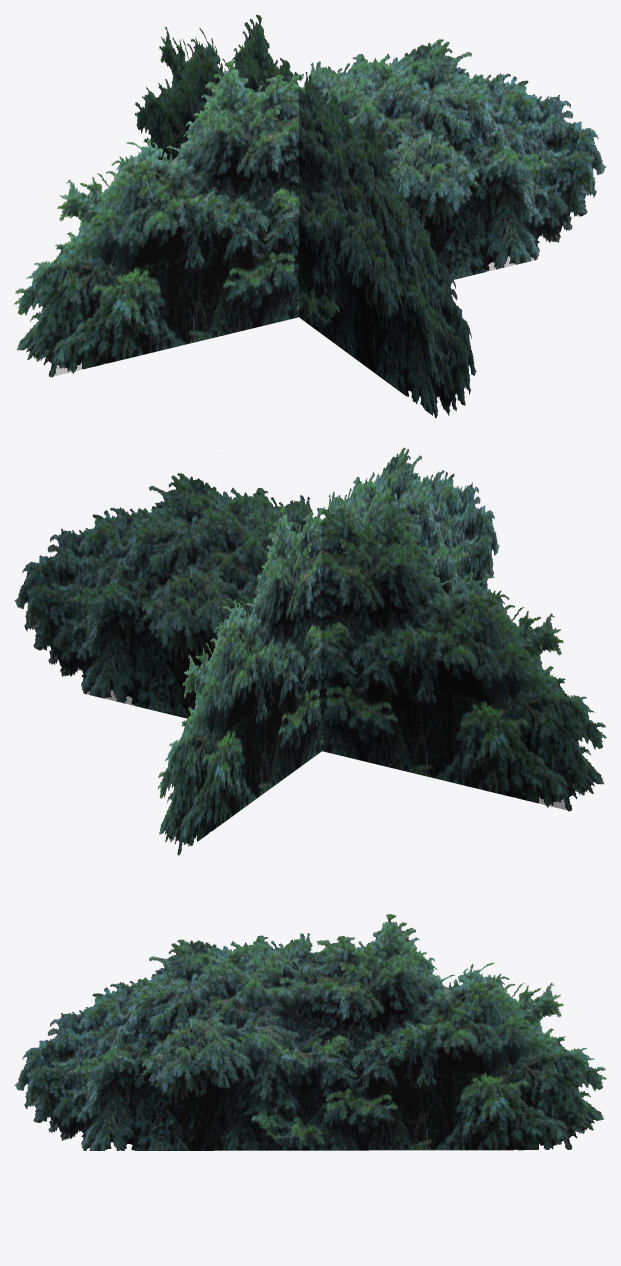
Rendered from ker2.dae.
3 views of the same model, one above another, from view 1: azimuth 30°, elevation 25°; view 2: azimuth 150°, elevation 25°; view 3: azimuth 270°, elevation 25° (orthographic). The views are drawn at different scales.
Parts seen in each view (by area): view 1: SketchUp (×2); view 2: SketchUp (×2); view 3: SketchUp.
Part boxes in pixels (<box>): SketchUp (×2): <box>14,14,606,418</box>; SketchUp (×2): <box>14,447,606,855</box>; SketchUp: <box>14,914,606,1150</box>.
Size of the model in its own units: 60.32 by 60.32 by 26.76.
2 materials, 1 textured.
